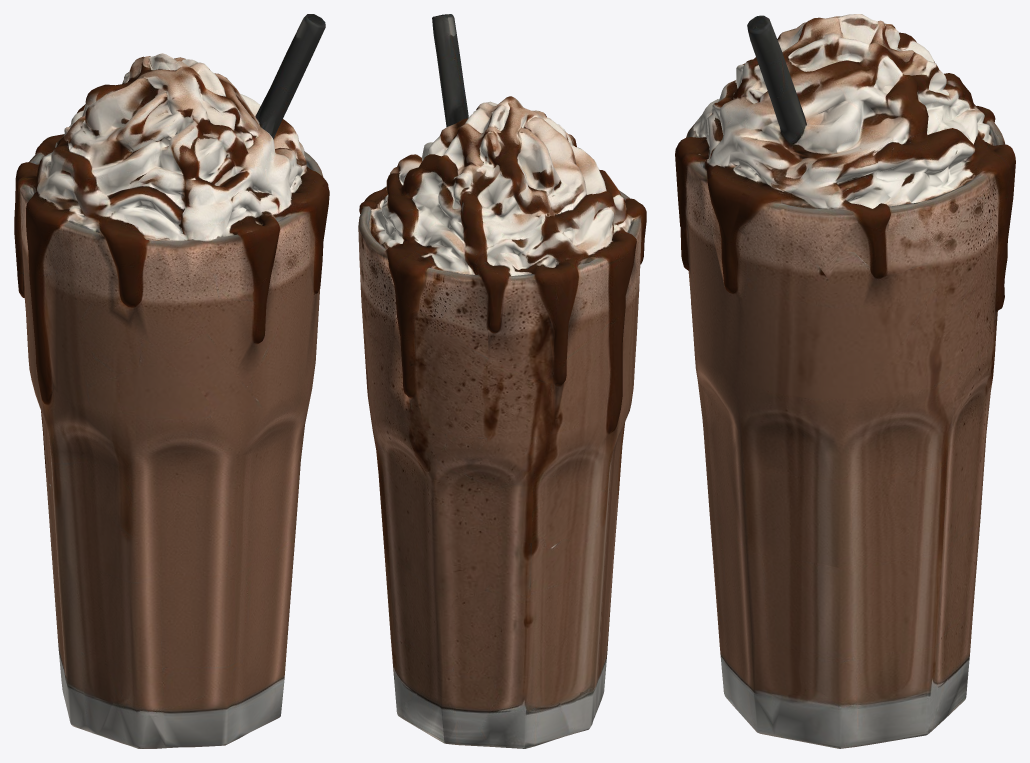
The model's file is nutella-shake-ar.glb.
The picture shows the model from 3 angles, left to right: view 1: azimuth 30°, elevation 25°; view 2: azimuth 150°, elevation 25°; view 3: azimuth 270°, elevation 25°; orthographic projection. The views are drawn at different scales.
Visible parts, largest first — view 1: mesh_node; view 2: mesh_node; view 3: mesh_node.
Part boxes in pixels (x1=…): mesh_node: x1=14, y1=14, x2=329, y2=748; mesh_node: x1=358, y1=14, x2=646, y2=748; mesh_node: x1=675, y1=14, x2=1015, y2=748.
Size of the model in its own units: 0.0743 by 0.18 by 0.0758.
1 material, 1 textured.
